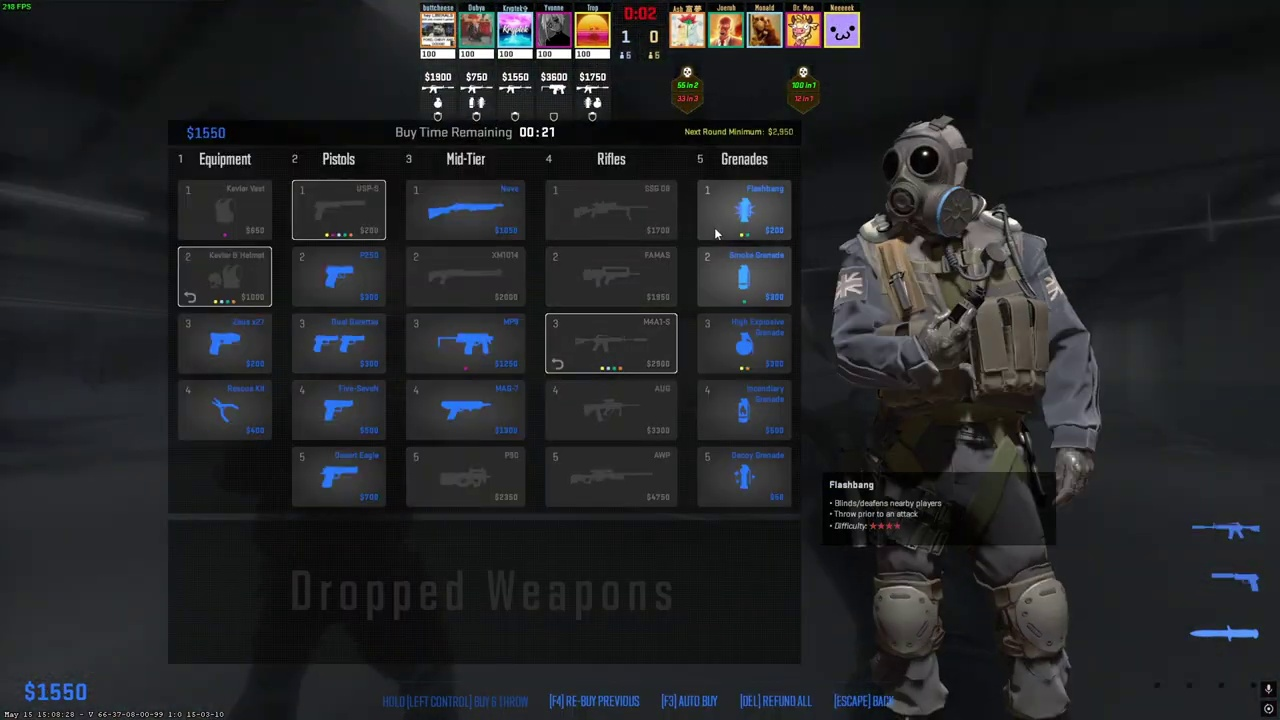CT: (853, 119, 1078, 720)
